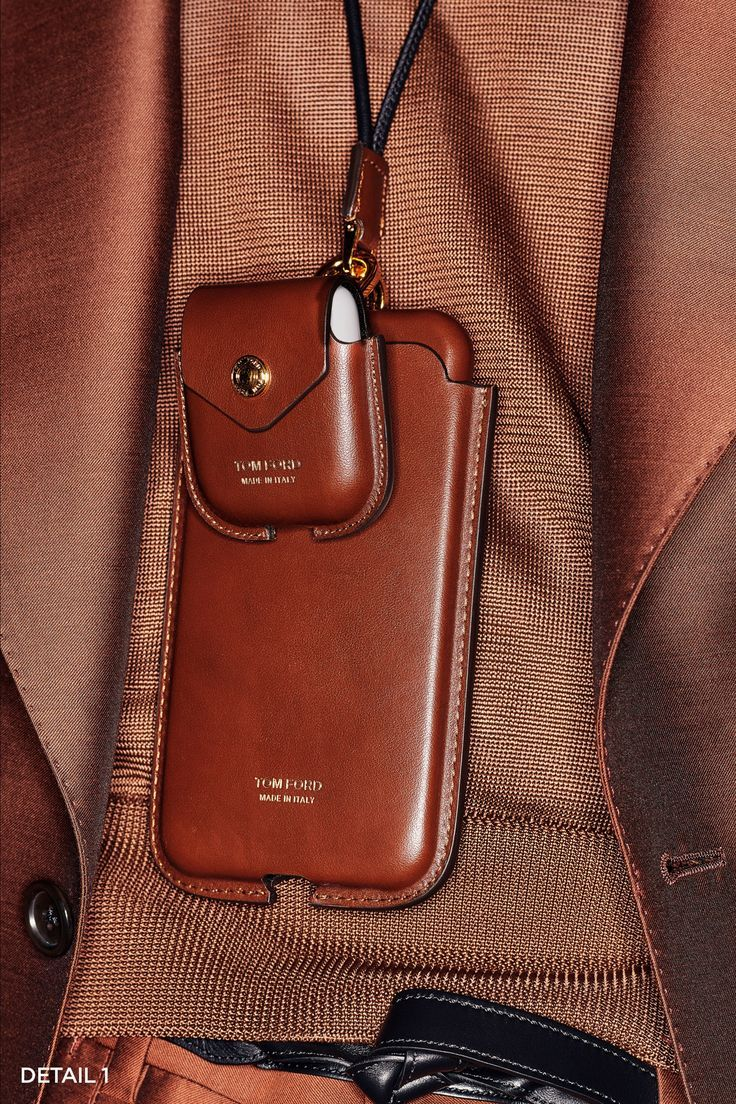cuero: (147, 143, 498, 910)
